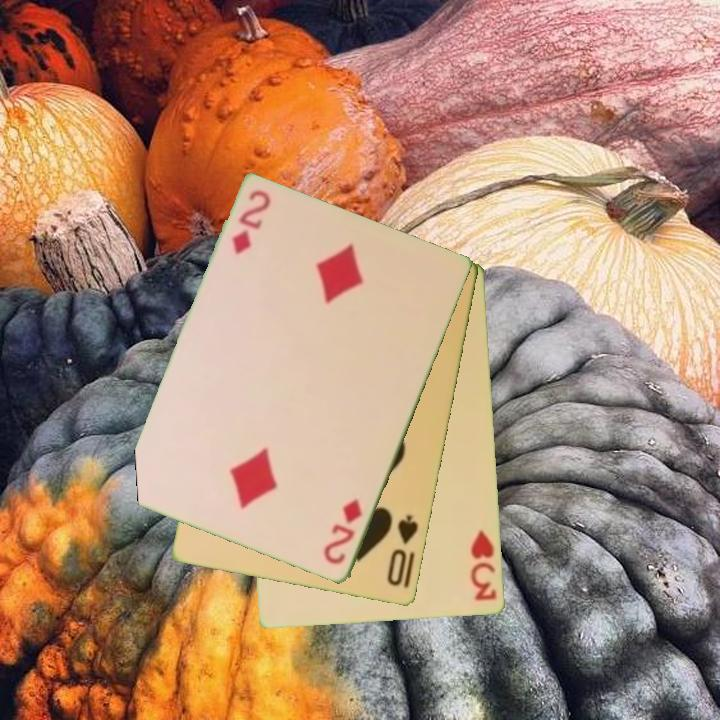10s: (384, 512, 422, 589)
2d: (320, 496, 366, 568), (228, 187, 273, 258)
3h: (467, 527, 501, 604)
